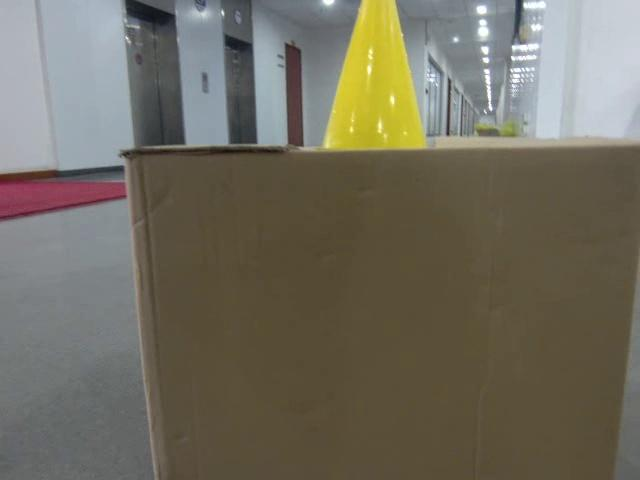yellow_barrel: (312, 0, 432, 151)
